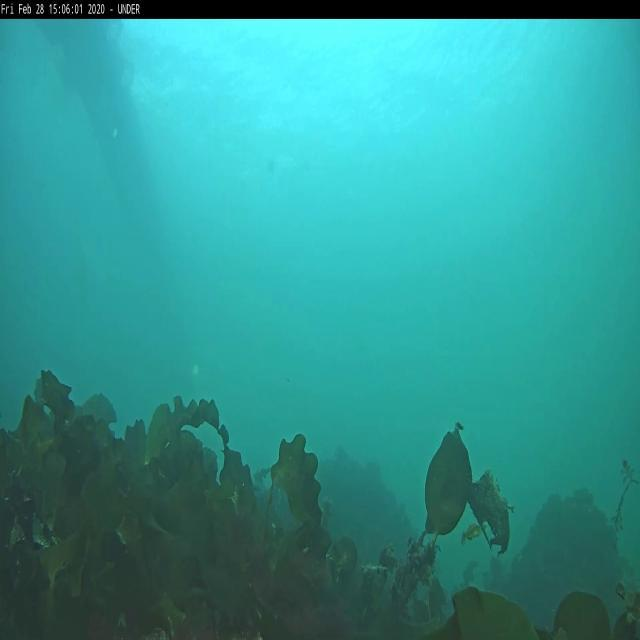fish: (462, 524, 483, 546)
